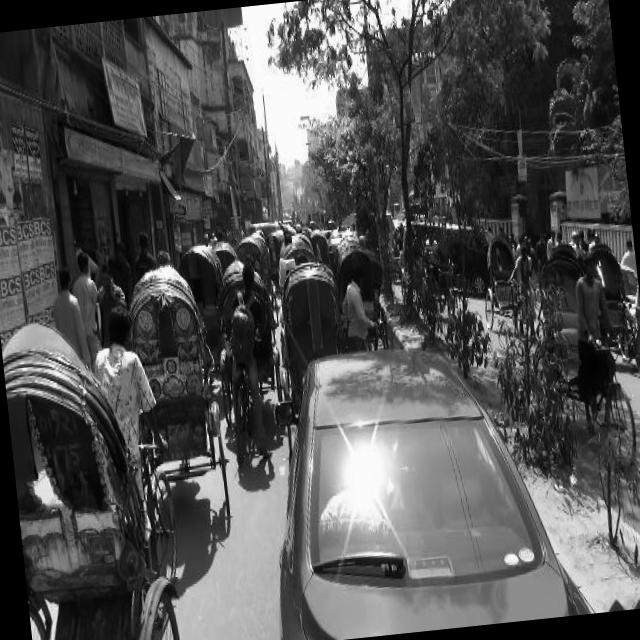car: (252, 321, 589, 640)
motorcycle: (532, 237, 640, 485), (268, 244, 342, 360), (170, 233, 228, 359), (473, 230, 532, 330), (262, 227, 292, 291)
